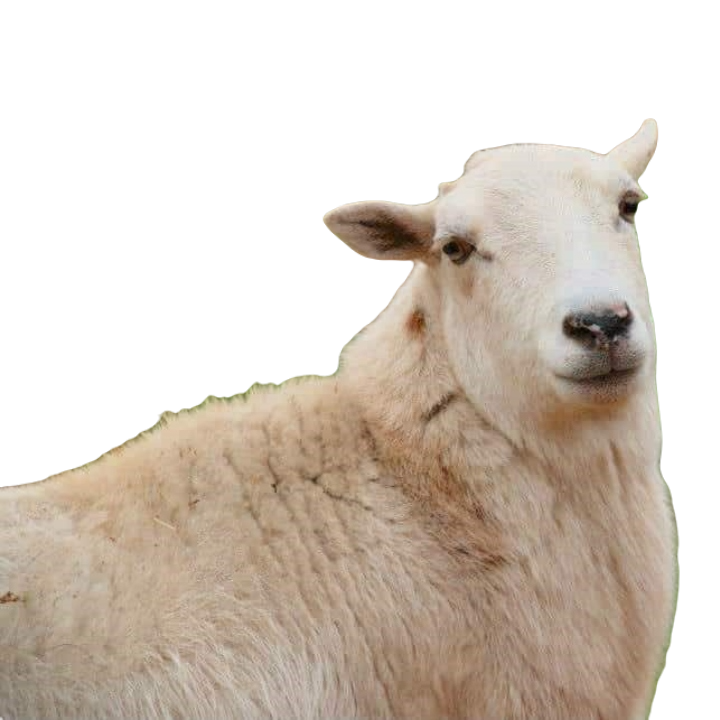Sheep: (0, 114, 686, 719)
